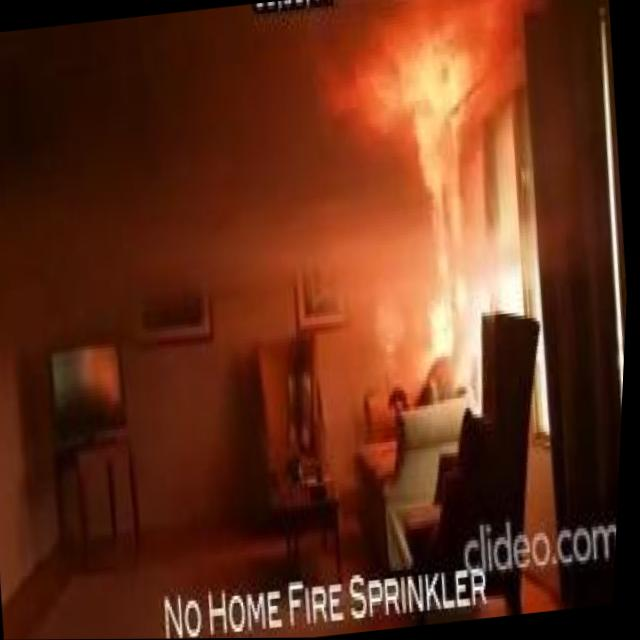fire: (324, 16, 491, 214), (421, 291, 462, 362)
